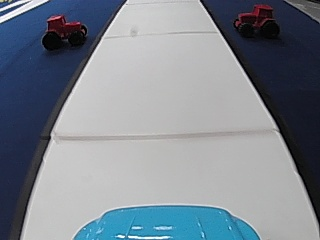tractor: (230, 2, 280, 40), (40, 12, 88, 50)
